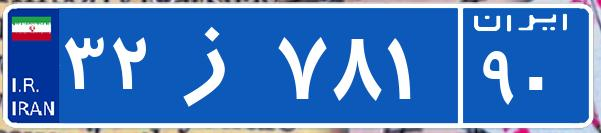0: (525, 38, 570, 115)
1: (385, 28, 445, 110)
2: (110, 28, 158, 105)
3: (57, 26, 110, 107)
7: (273, 28, 330, 110)
8: (330, 28, 385, 110)
9: (475, 38, 525, 113)
ز: (158, 15, 273, 115)
